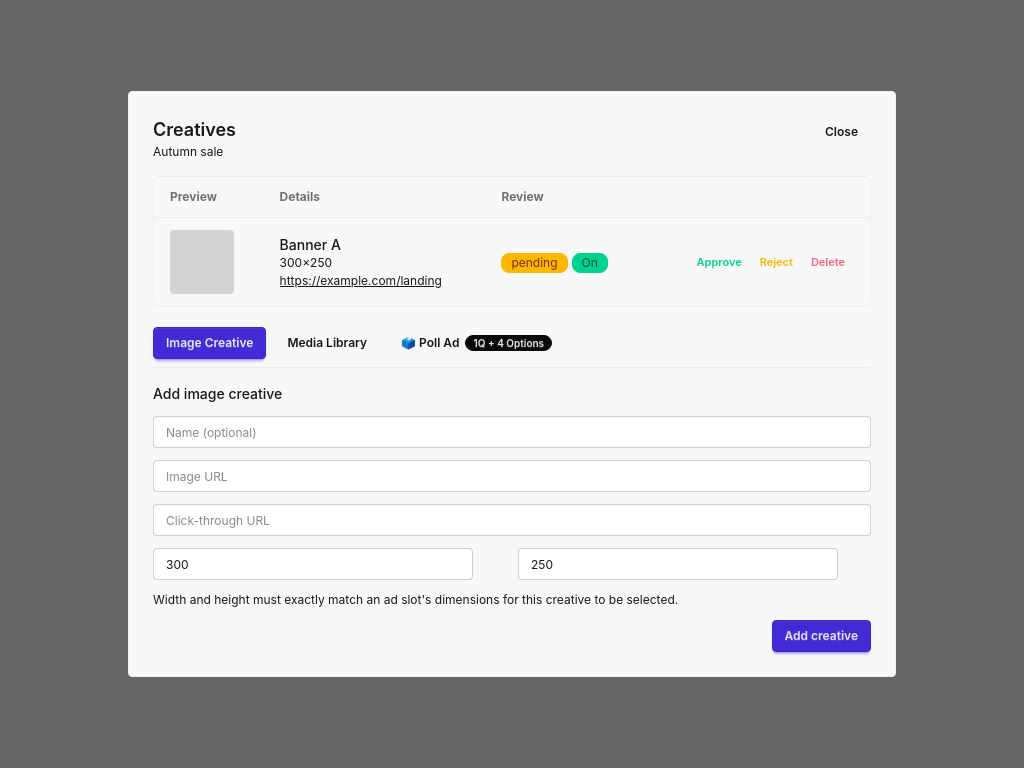
review controls › surfaces a failed action
What coordinates should you click on to do the following:
click the button "Approve"
I would click on:
 (719, 262)
Its box is top-left (688, 250), bottom-right (751, 274).
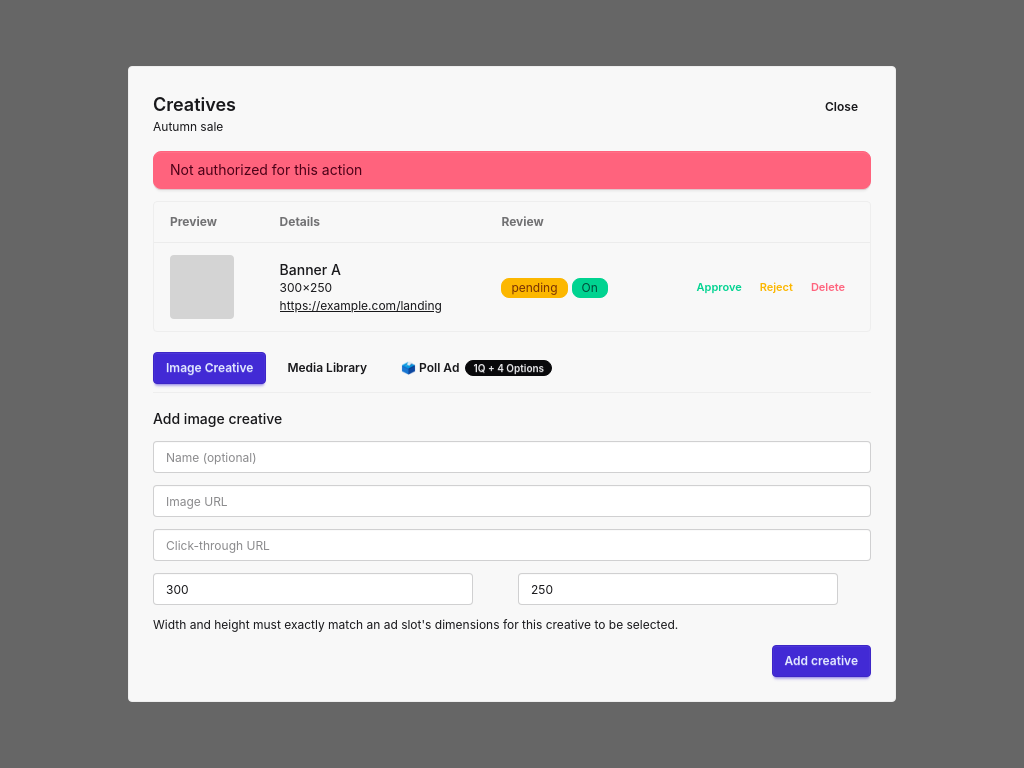
Now the message shows "Not authorized", box top-left (170, 161), bottom-right (362, 178)
